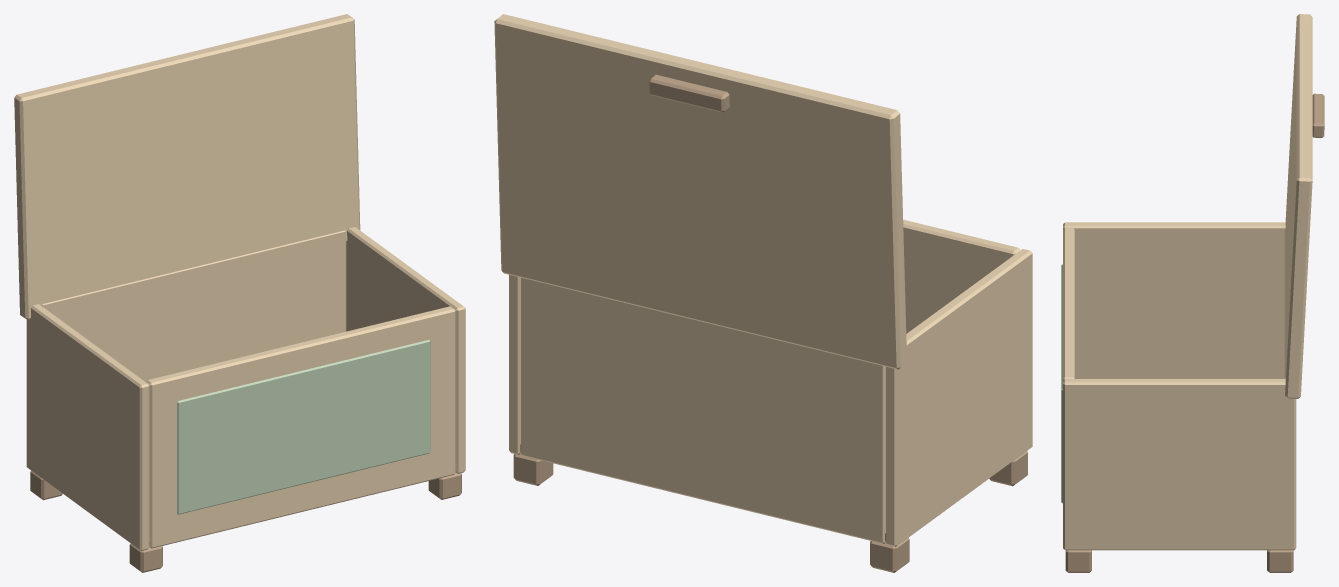
Rendered from jelly-friends-playroom-toy-box-oak-open-d64f865a__27642.glb.
3 views of the same model, side by side, from view 1: azimuth 30°, elevation 25°; view 2: azimuth 150°, elevation 25°; view 3: azimuth 270°, elevation 25° (orthographic). The views are drawn at different scales.
Parts seen in each view (by area): view 1: toy-box-oak-open, lid; view 2: toy-box-oak-open, lid (×2); view 3: toy-box-oak-open, lid (×2).
Part boxes in pixels (x1,y1,x2,y2): toy-box-oak-open: (26, 227, 465, 572); lid: (14, 14, 360, 319); toy-box-oak-open: (509, 219, 1032, 572); lid (×2): (494, 14, 906, 369); toy-box-oak-open: (1061, 222, 1296, 572); lid (×2): (1285, 14, 1324, 398).
Bounding box in the file's own units: 0.74 × 0.8292 × 0.4967.
